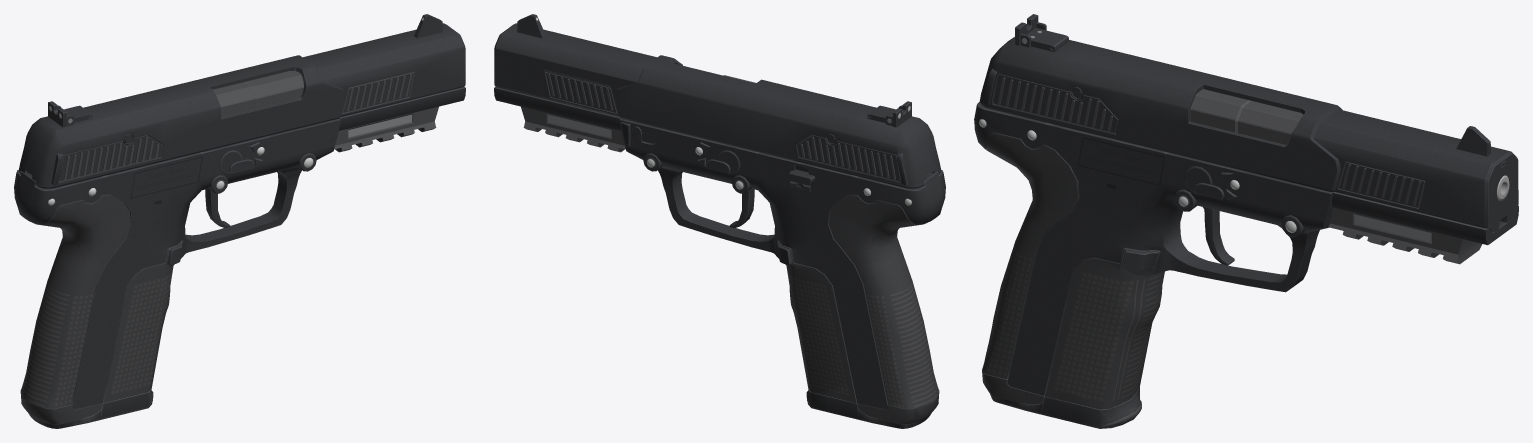
3 renders of one model, left to right at view 1: azimuth 30°, elevation 25°; view 2: azimuth 150°, elevation 25°; view 3: azimuth 330°, elevation 25°, orthographic. The views are drawn at different scales.
Visible parts, largest first — view 1: FN57, Slide__0, Mag_02 - Default_0, Safety__0, Trigger__0; view 2: FN57, Slide__0, Mag_02 - Default_0, Safety__0, Trigger__0; view 3: FN57, Slide__0, Mag_02 - Default_0, Trigger__0, Safety__0.
Part boxes in pixels (left/top/right/bottom): FN57: left=14, top=71, right=465, bottom=424; Slide__0: left=19, top=14, right=465, bottom=188; Mag_02 - Default_0: left=29, top=389, right=153, bottom=428; Safety__0: left=219, top=150, right=254, bottom=174; Trigger__0: left=205, top=188, right=230, bottom=227; FN57: left=494, top=75, right=945, bottom=424; Slide__0: left=494, top=14, right=940, bottom=188; Mag_02 - Default_0: left=806, top=389, right=930, bottom=428; Safety__0: left=705, top=150, right=740, bottom=174; Trigger__0: left=729, top=188, right=754, bottom=227; FN57: left=974, top=89, right=1518, bottom=409; Slide__0: left=980, top=14, right=1518, bottom=232; Mag_02 - Default_0: left=990, top=387, right=1141, bottom=428; Trigger__0: left=1203, top=207, right=1234, bottom=265; Safety__0: left=1185, top=166, right=1224, bottom=200.
Bounding box in the file's own units: 21.79 × 14.97 × 3.1.
Materials: 2 (2 with a texture image).
